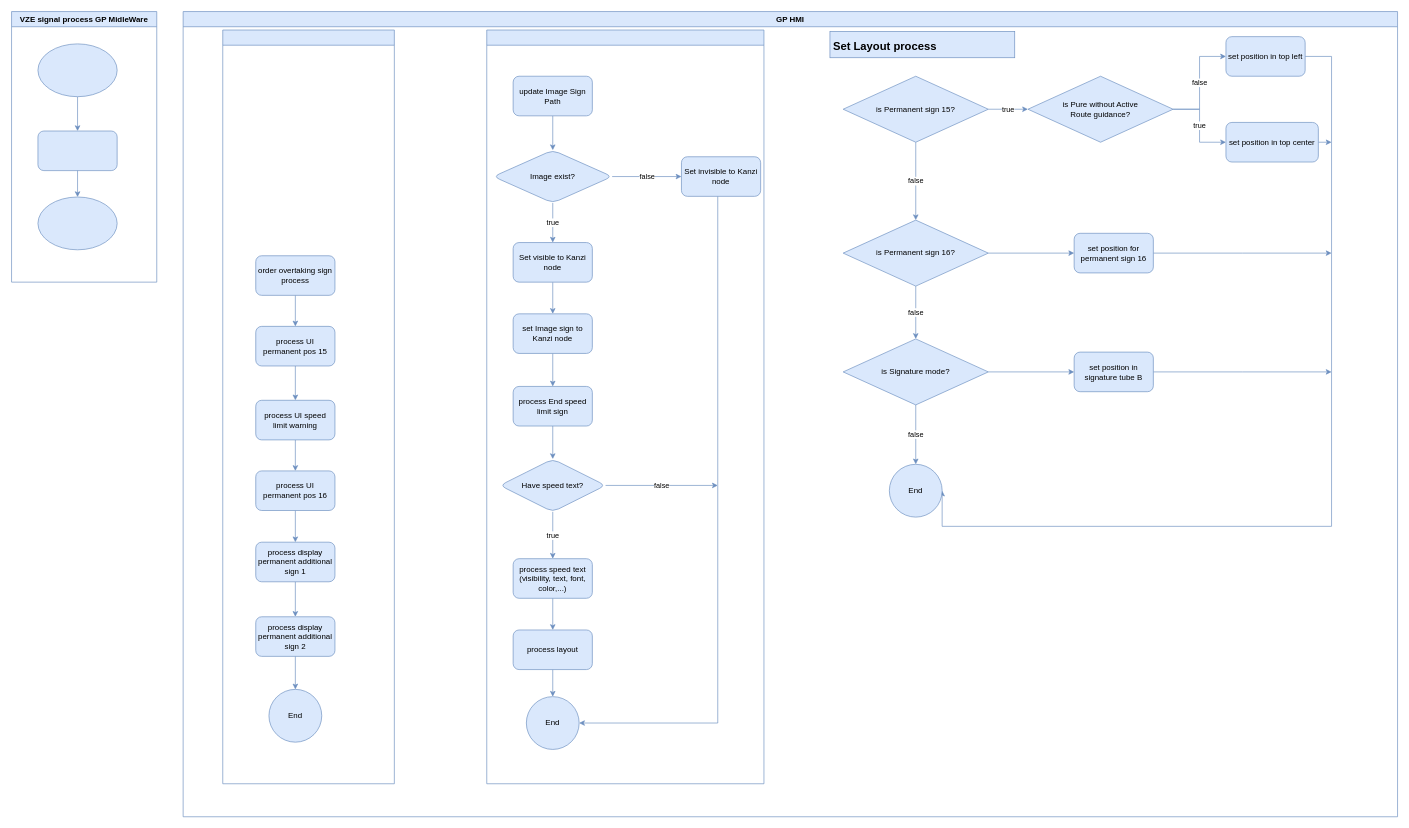
The diagram is 1409 pixels wide and 828 high, and some of its shapes have lost their labels. Here are the shapes that lost their labels. From the top down, the box of each, then its label:
(37, 43, 117, 97): Receive VZE signal
(37, 130, 117, 171): process VZE data
(37, 196, 117, 250): send VZE record to HMI
(222, 29, 394, 784): Permanent sign UI process
(486, 29, 764, 784): Permanent pos 15 display process
